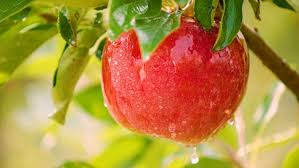apple: (103, 29, 249, 150)
